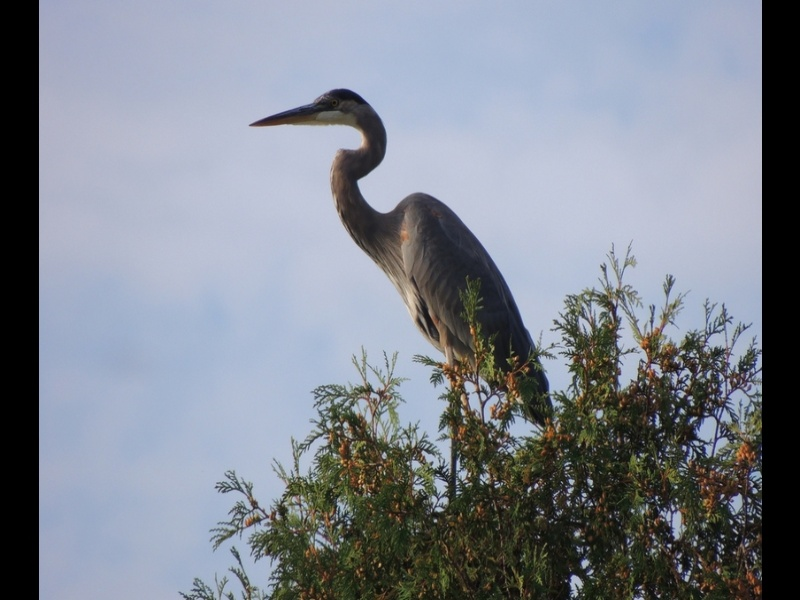heron: (245, 86, 560, 434)
